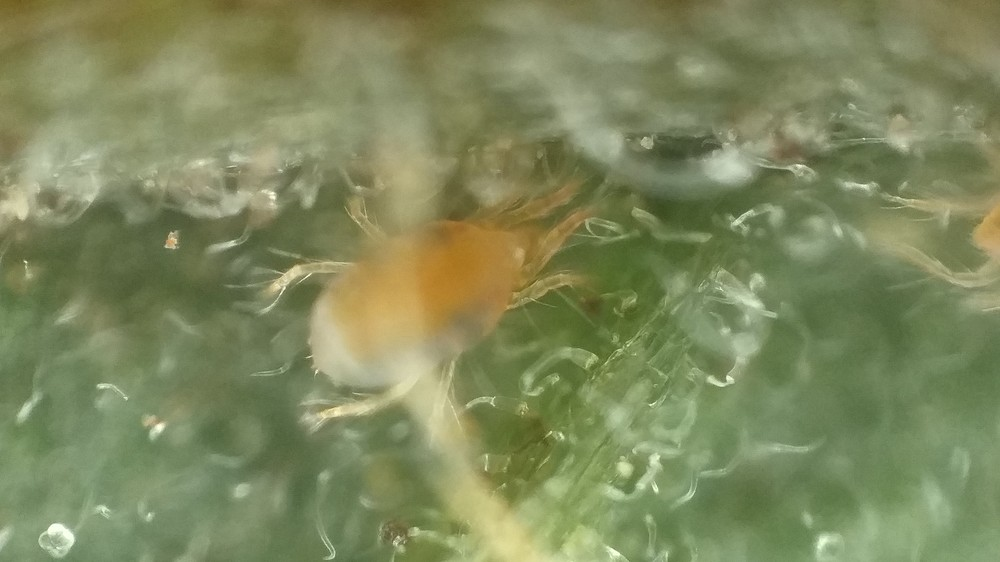Aracnido Rojo: (260, 144, 640, 442)
